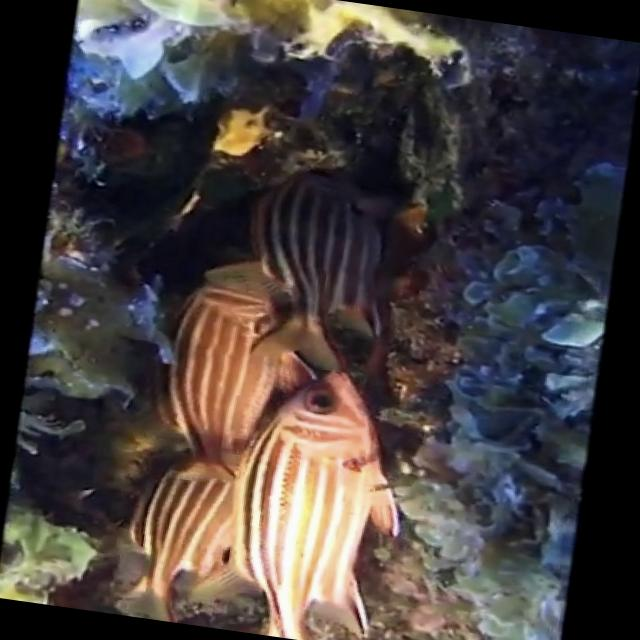Asker Baligi: (212, 355, 420, 640), (250, 134, 410, 358)
